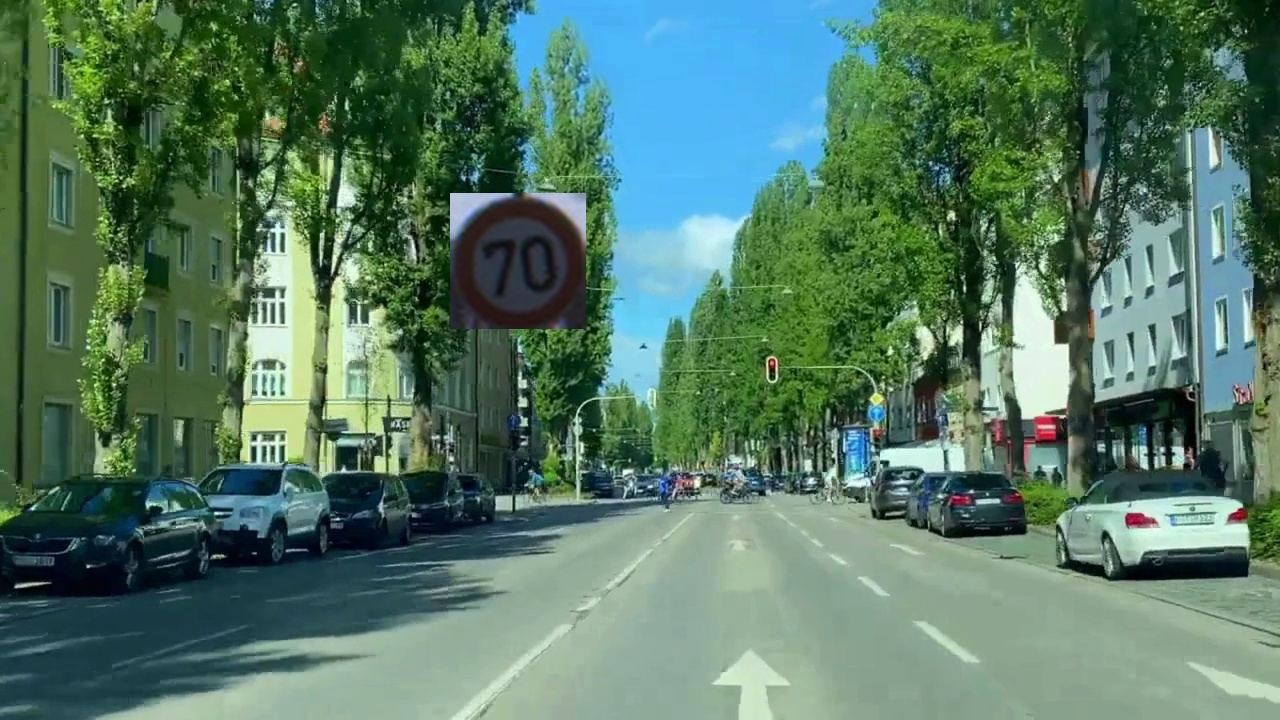Speed 70: (450, 193, 586, 329)
